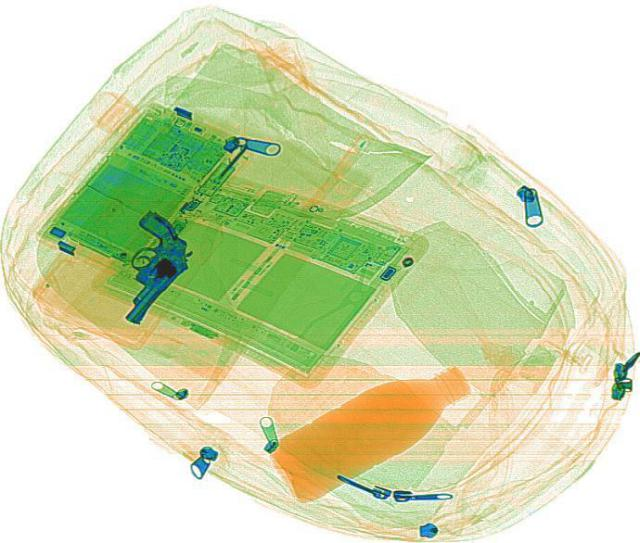Gun: (74, 205, 212, 322)
